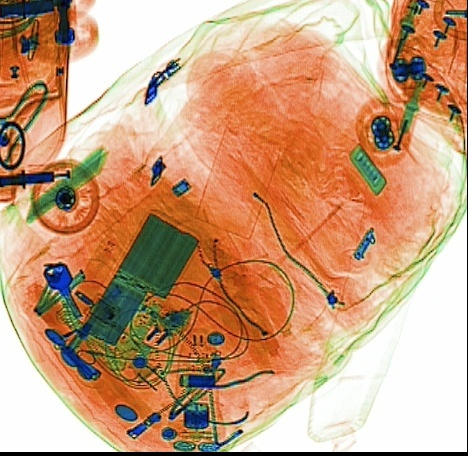powerbank: (77, 206, 200, 357)
